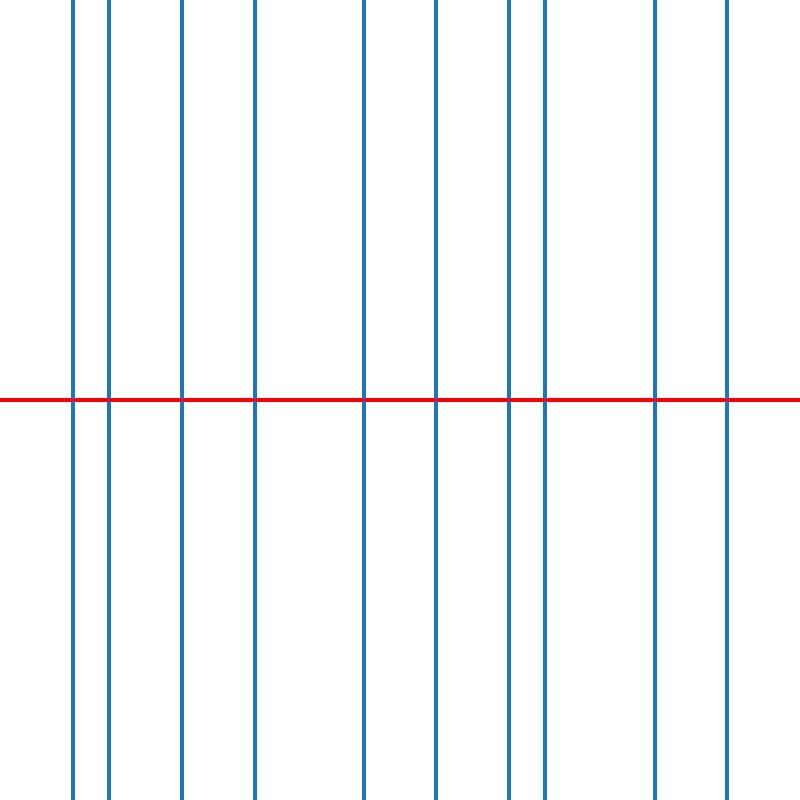root: (250, 396, 258, 404), (541, 396, 549, 404), (432, 396, 440, 404), (650, 396, 658, 404), (69, 396, 76, 404), (505, 396, 512, 404), (105, 396, 112, 404), (178, 396, 185, 404), (723, 396, 730, 404), (360, 396, 367, 404)
